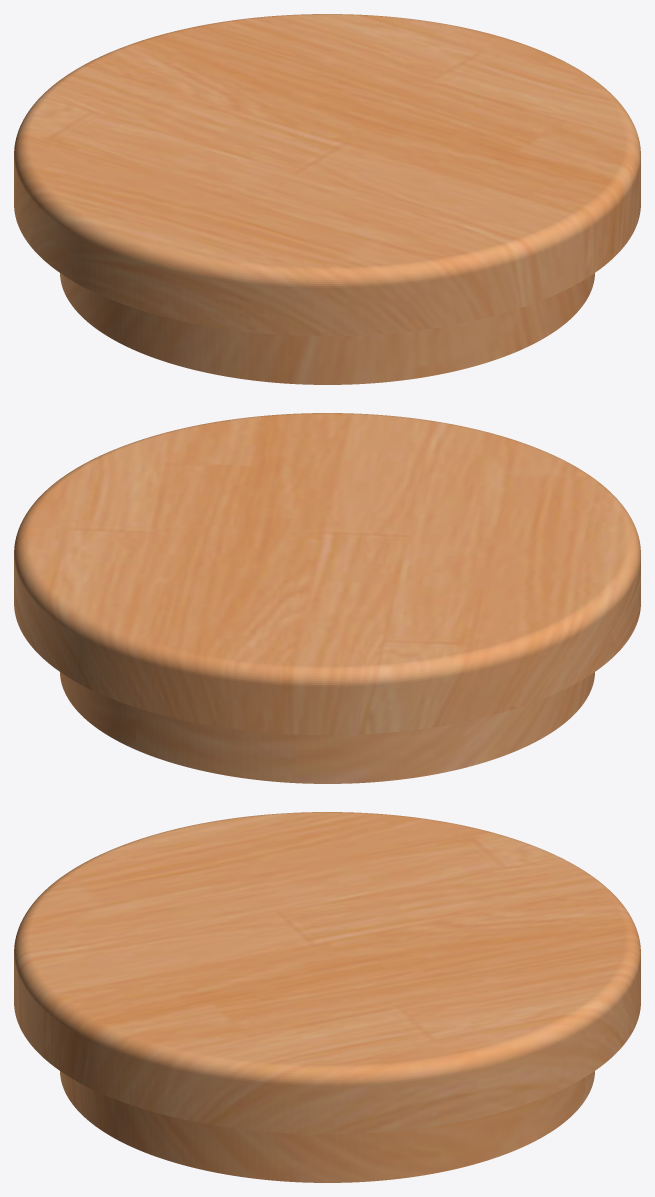
The model's file is lid.obj.
3 views of the same model, one above another, from view 1: azimuth 30°, elevation 25°; view 2: azimuth 150°, elevation 25°; view 3: azimuth 270°, elevation 25° (orthographic).
Visible parts, largest first — view 1: lid; view 2: lid; view 3: lid.
Boxes of the visible parts, x1,y1,x2,y2 form: lid: (14, 14, 640, 384); lid: (14, 413, 640, 783); lid: (14, 812, 640, 1182).
Bounding box in the file's own units: 82 × 18.82 × 82.
1 material, 1 textured.
